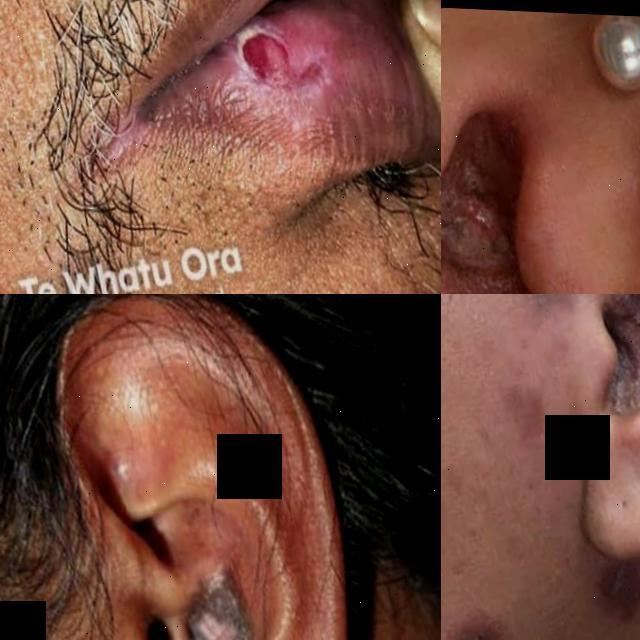lupus-detected: (441, 56, 604, 294), (86, 509, 338, 640), (177, 0, 386, 137), (526, 294, 640, 414), (441, 573, 604, 640), (595, 546, 640, 640)
